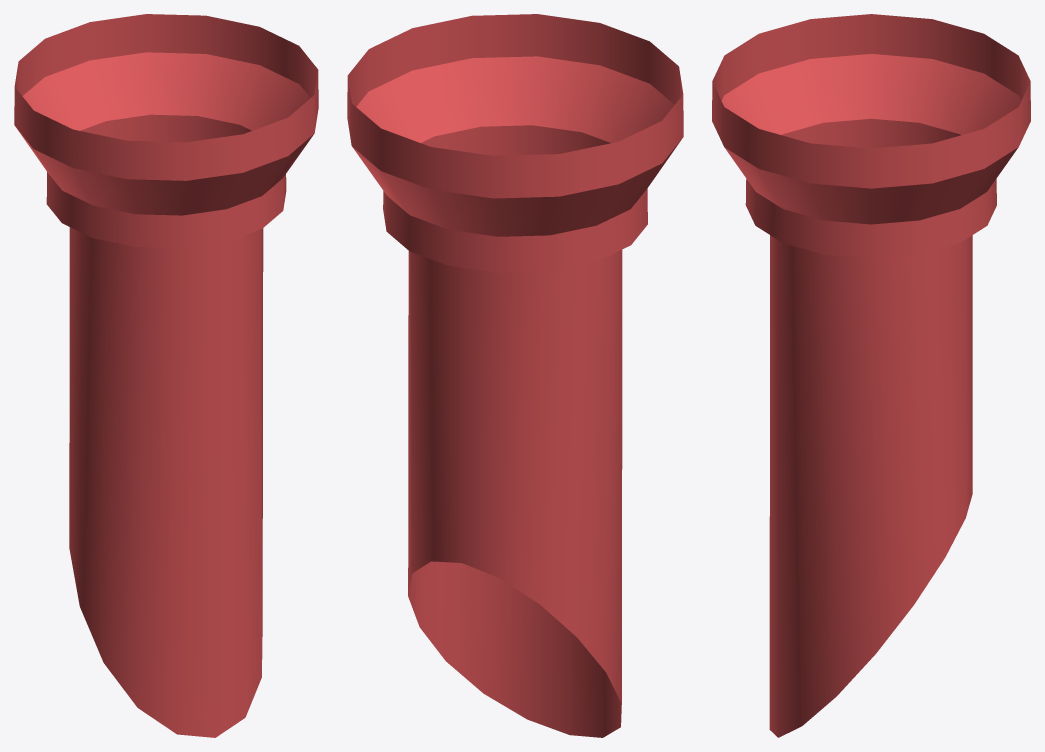
File: Gutter_part_5.fbx
3 views of the same model, side by side, from view 1: azimuth 30°, elevation 25°; view 2: azimuth 150°, elevation 25°; view 3: azimuth 270°, elevation 25° (orthographic). The views are drawn at different scales.
Visible parts, largest first — view 1: Gutter_part_5; view 2: Gutter_part_5; view 3: Gutter_part_5.
Boxes of the visible parts, bbox=[...] form: Gutter_part_5: bbox=[14, 14, 318, 737]; Gutter_part_5: bbox=[347, 14, 683, 737]; Gutter_part_5: bbox=[712, 14, 1030, 737].
Size of the model in its own units: 20.09 by 45.06 by 20.09.
